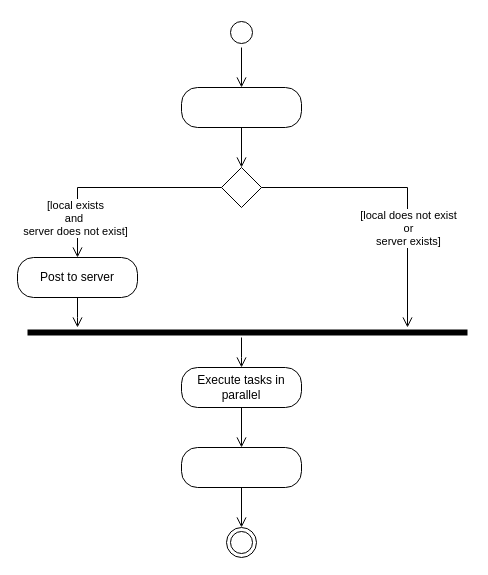
This 488x575 diagram has some shape labels left out. The centre of each missing label's shape, as x and y in pixels:
For each embedded ID: [241,107]
Wait for completion: [241,467]
